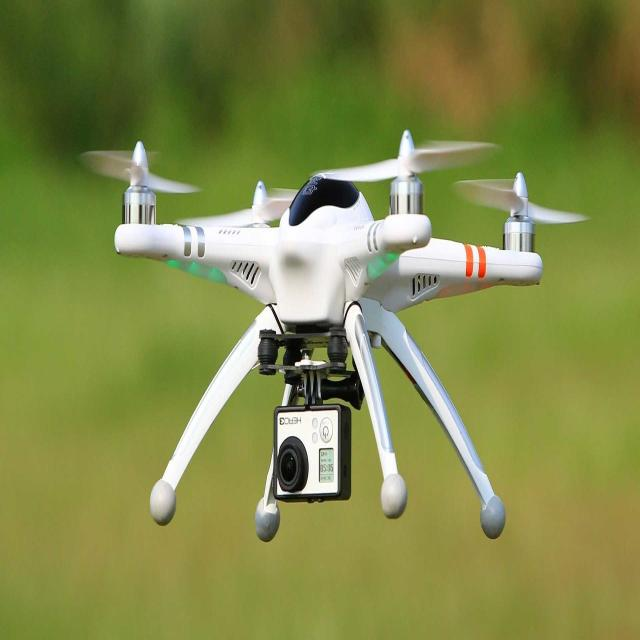drone: (74, 126, 593, 545)
